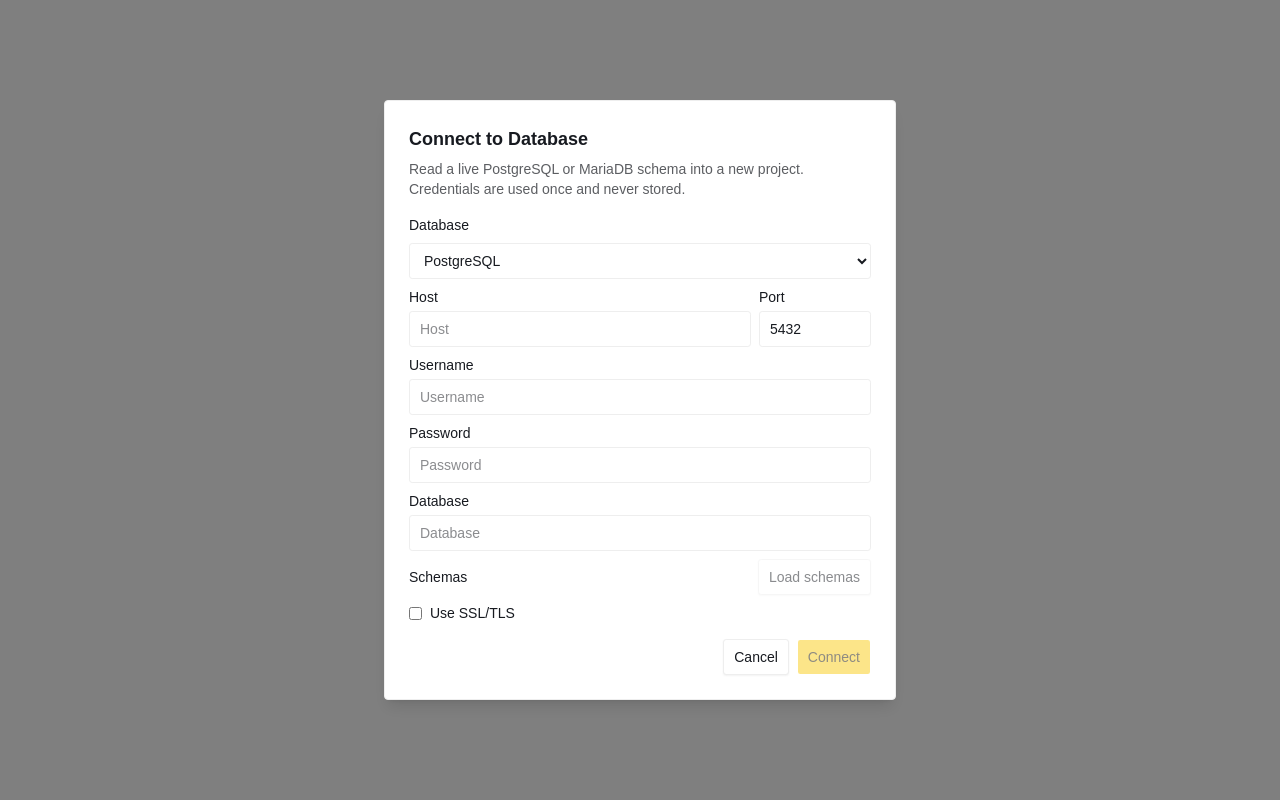
Test: DbConnectDialog › disables Connect when the port is cleared
This screenshot has width=1280, height=800.
Type "localhost" into the field with test id "db-connect-host".
click(580, 329); type("localhost")  # box [409, 311, 751, 347]
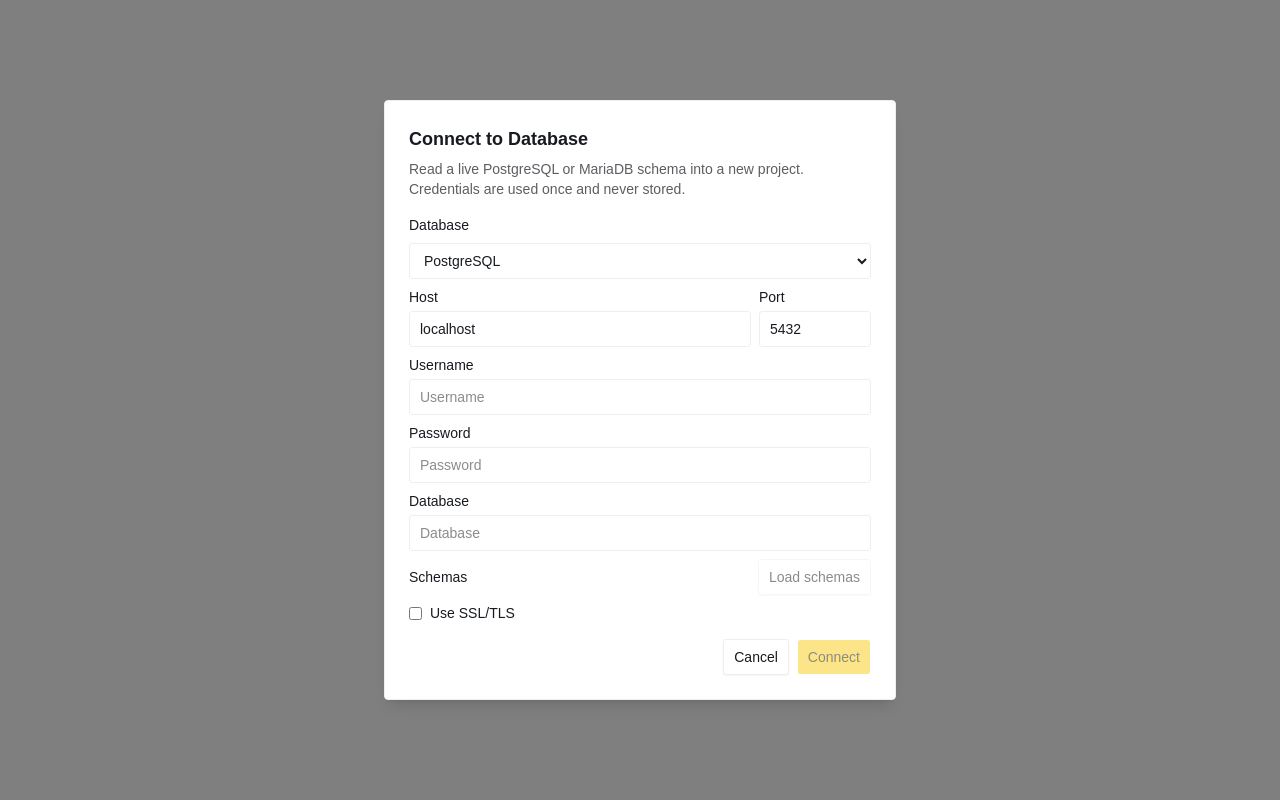
Type "postgres" into the field with test id "db-connect-username".
click(640, 397); type("postgres")  # box [409, 379, 871, 415]
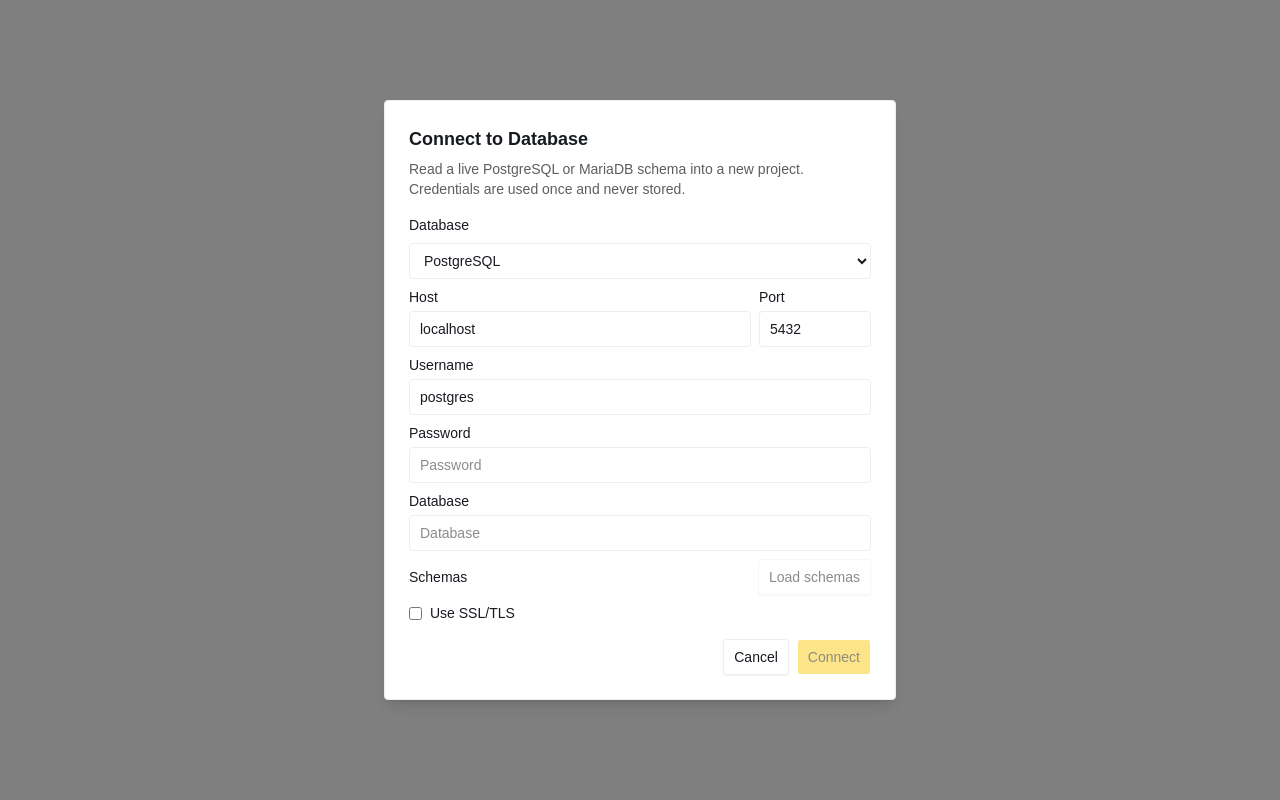
Type "secret" into the password field with test id "db-connect-password".
click(640, 465); type("secret")  # box [409, 447, 871, 483]
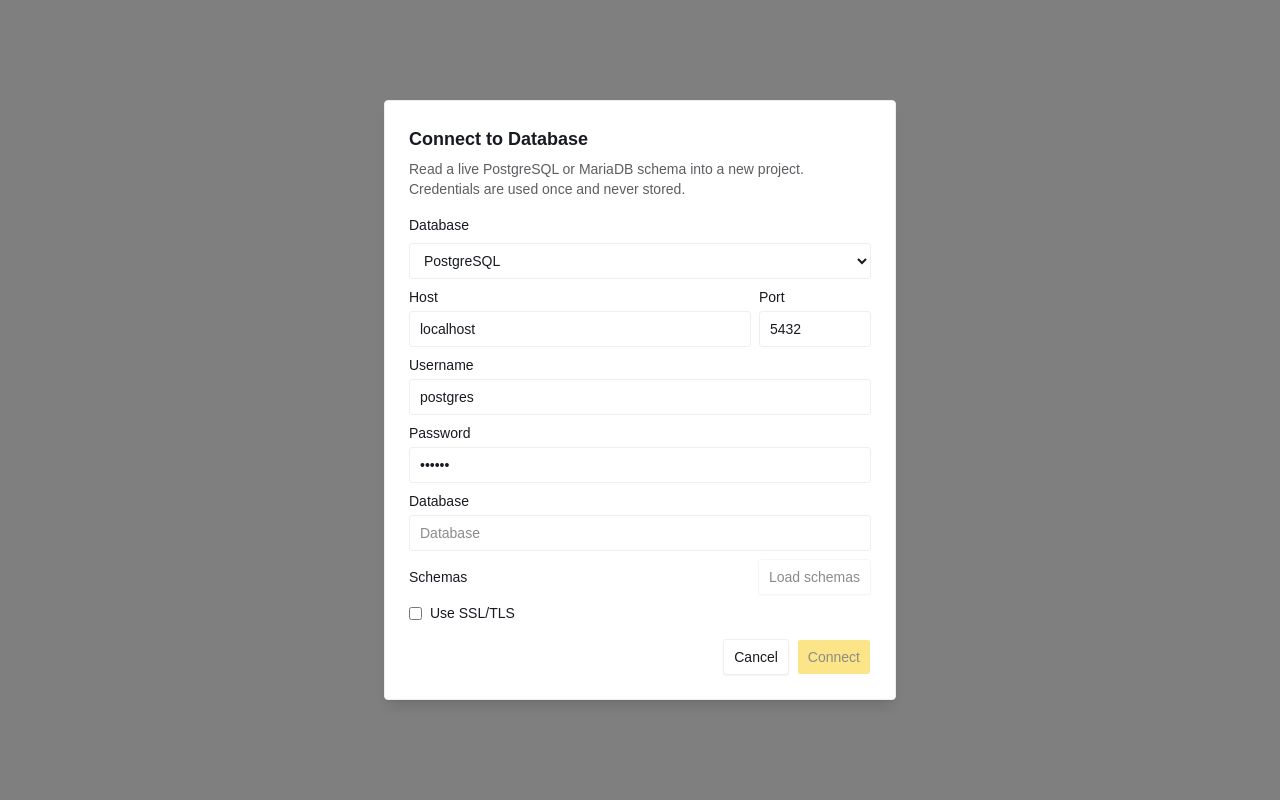
Type "mydb" into the field with test id "db-connect-database".
click(640, 533); type("mydb")  # box [409, 515, 871, 551]
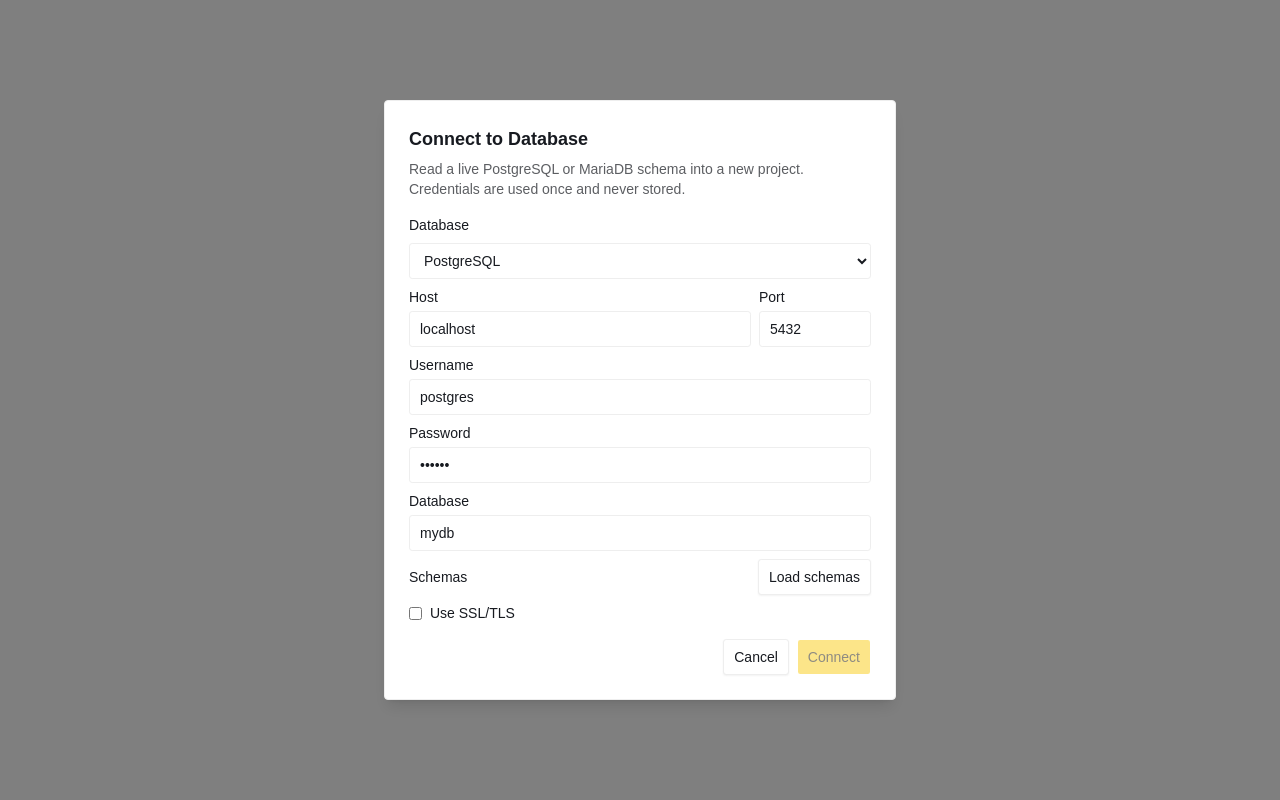
Click the button with test id "db-connect-load-schemas".
click(814, 577)  # box [758, 559, 871, 595]
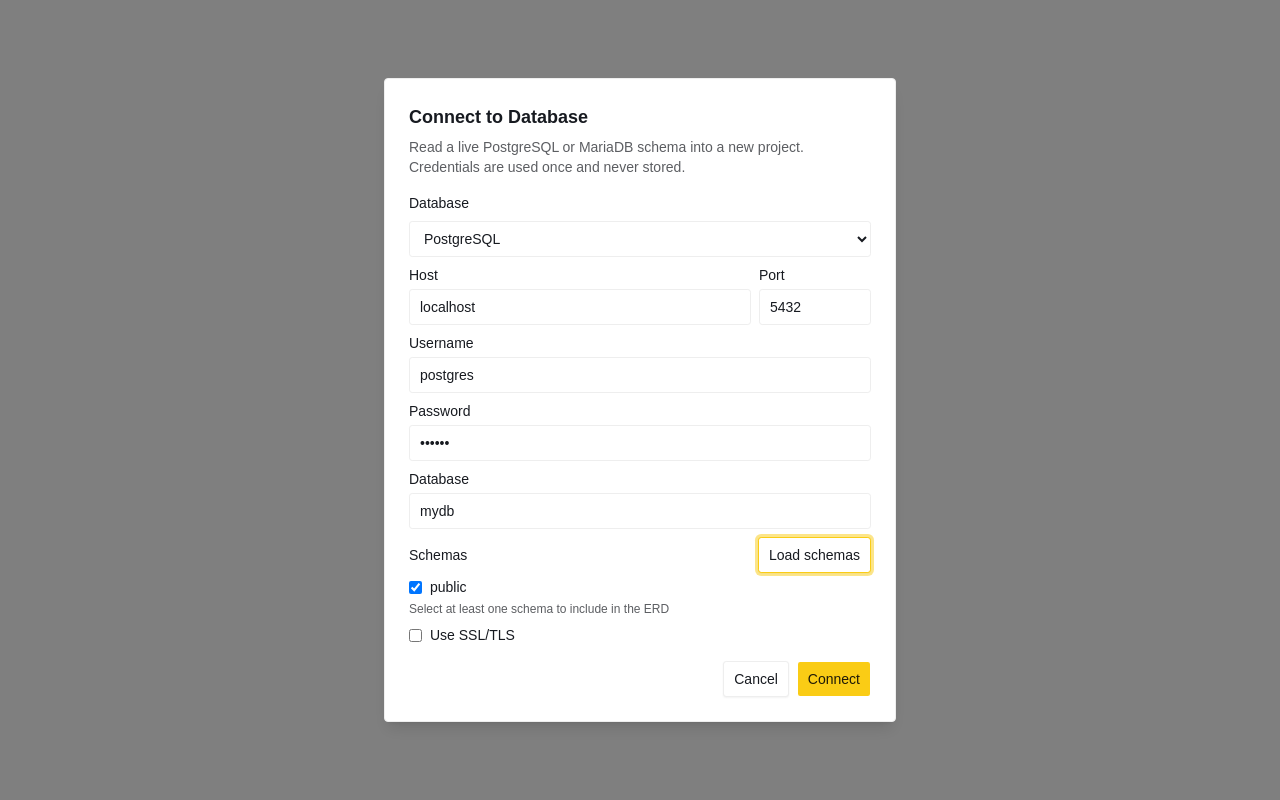
Clear the number field with test id "db-connect-port" at (815, 307), box [759, 289, 871, 325]
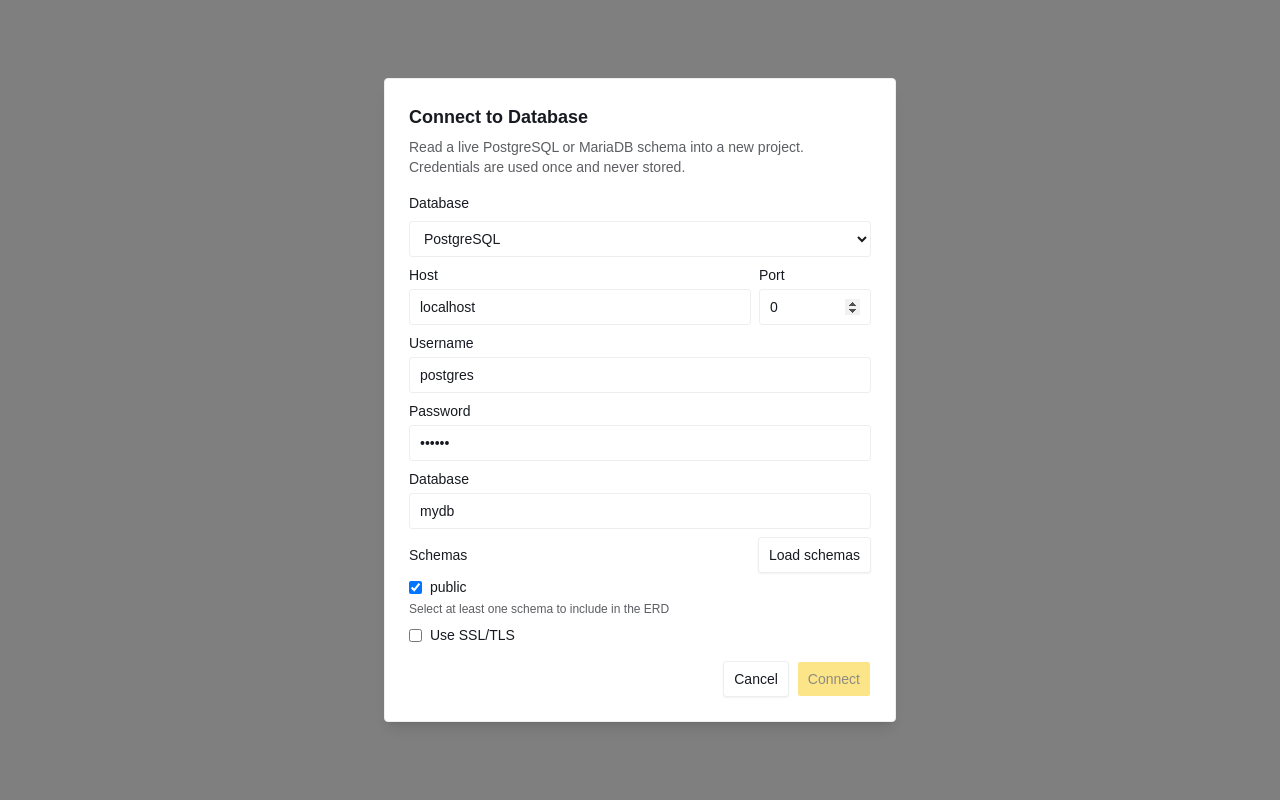
Check: the button "Connect" is disabled, box [797, 661, 871, 697]
